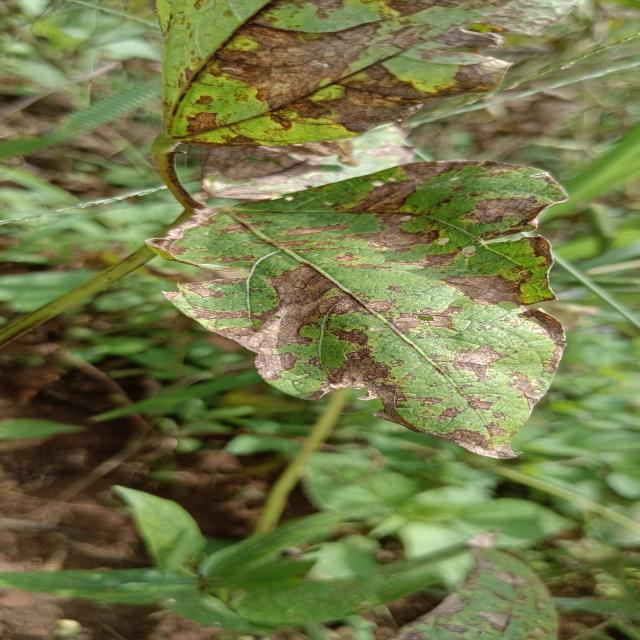Black gram_leaf spot: (109, 156, 621, 472), (151, 0, 573, 162)
